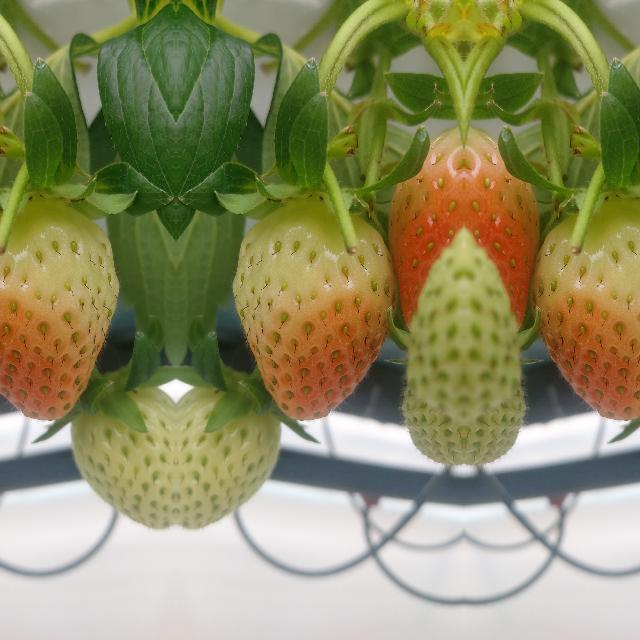Health_25: (174, 368, 284, 532), (66, 368, 176, 532)
Health_50: (232, 206, 396, 420), (0, 206, 118, 419), (529, 206, 640, 419)
